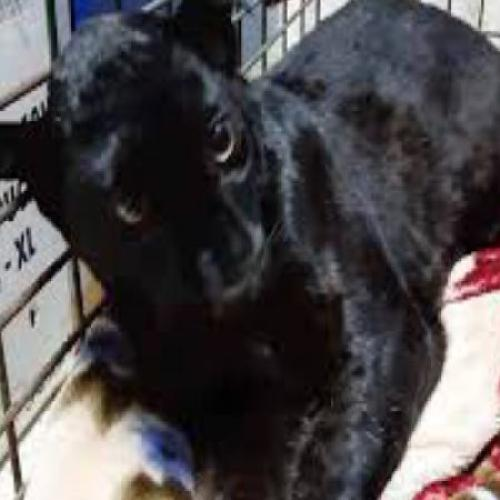panther-endangered: (9, 11, 490, 490)
